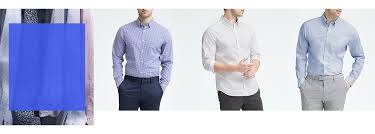F_dress pants: (120, 76, 164, 111)
F_shirt: (103, 15, 186, 88), (291, 13, 365, 89)
S_shirt: (201, 19, 263, 96)
